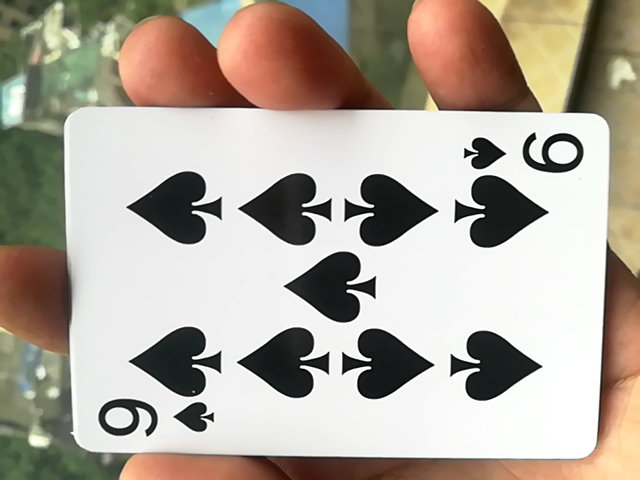ht 9: (48, 109, 614, 466)
